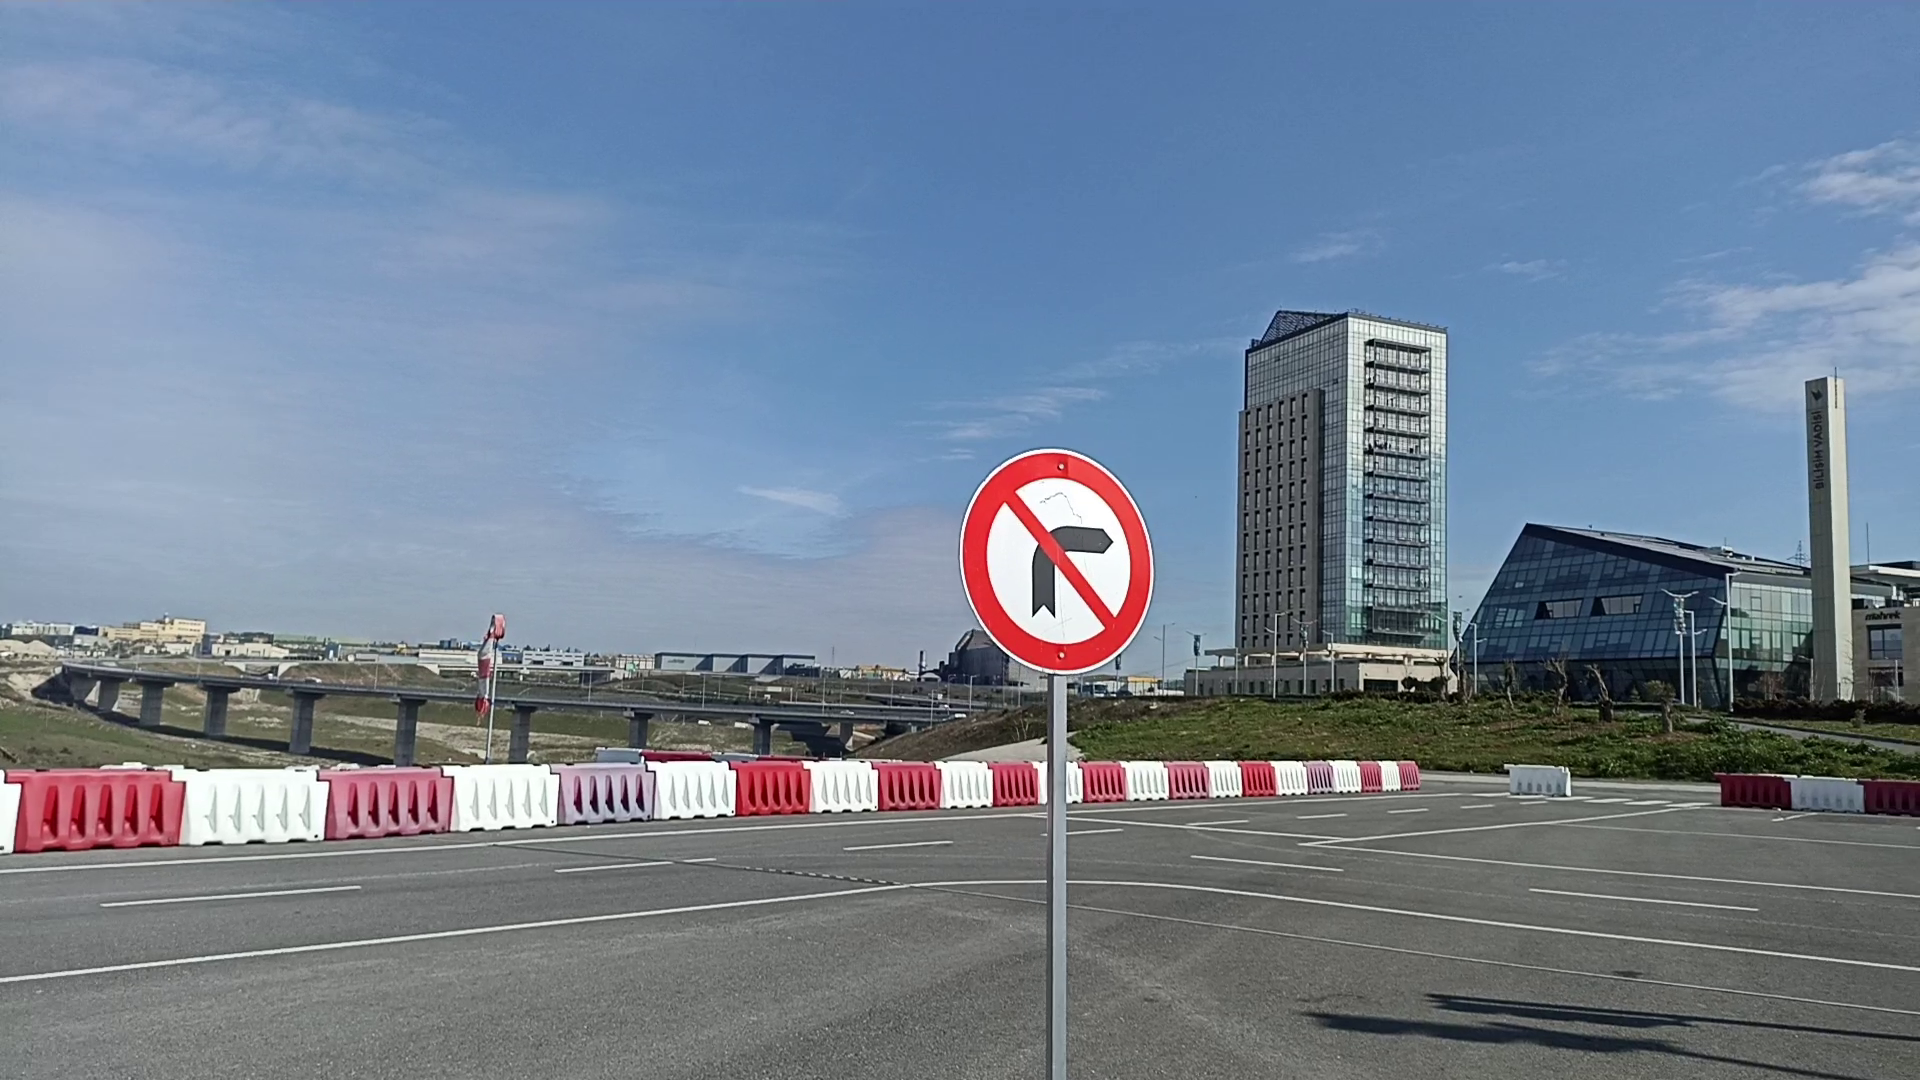noleftturn: (955, 443, 1160, 679)
